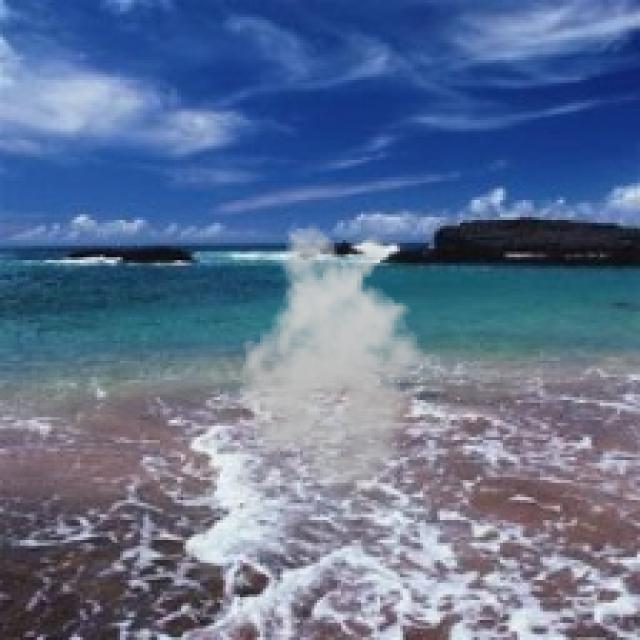smoke: (228, 223, 443, 491)
